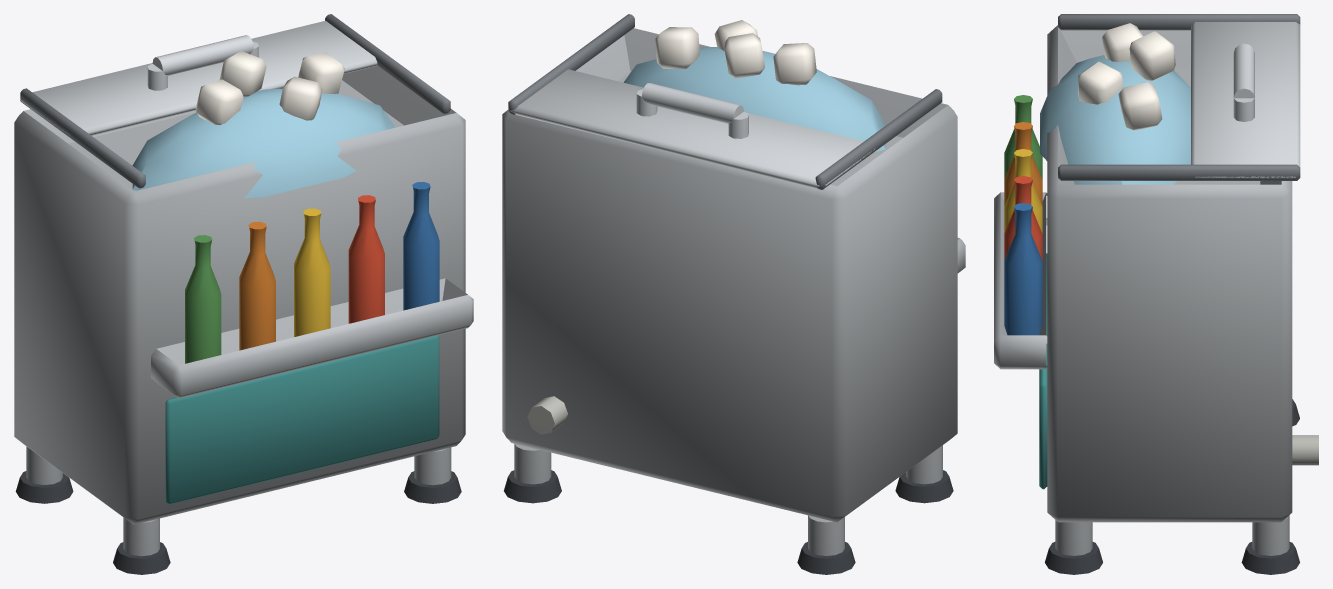
File: SM_IceBin_Bar_075.glb
3 views of the same model, side by side, from view 1: azimuth 30°, elevation 25°; view 2: azimuth 150°, elevation 25°; view 3: azimuth 270°, elevation 25° (orthographic).
Parts seen in each view (by area): view 1: SM_IceBin_Bar_075; view 2: SM_IceBin_Bar_075; view 3: SM_IceBin_Bar_075.
Boxes of the visible parts, <box> form: SM_IceBin_Bar_075: <box>14,14,473,574</box>; SM_IceBin_Bar_075: <box>502,14,965,574</box>; SM_IceBin_Bar_075: <box>994,14,1318,574</box>.
Bounding box in the file's own units: 0.75 × 0.9354 × 0.61.
Materials: 1 (1 with a texture image).
